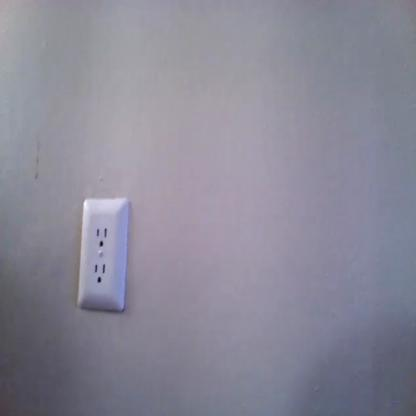OUTLET: (79, 198, 129, 314)
